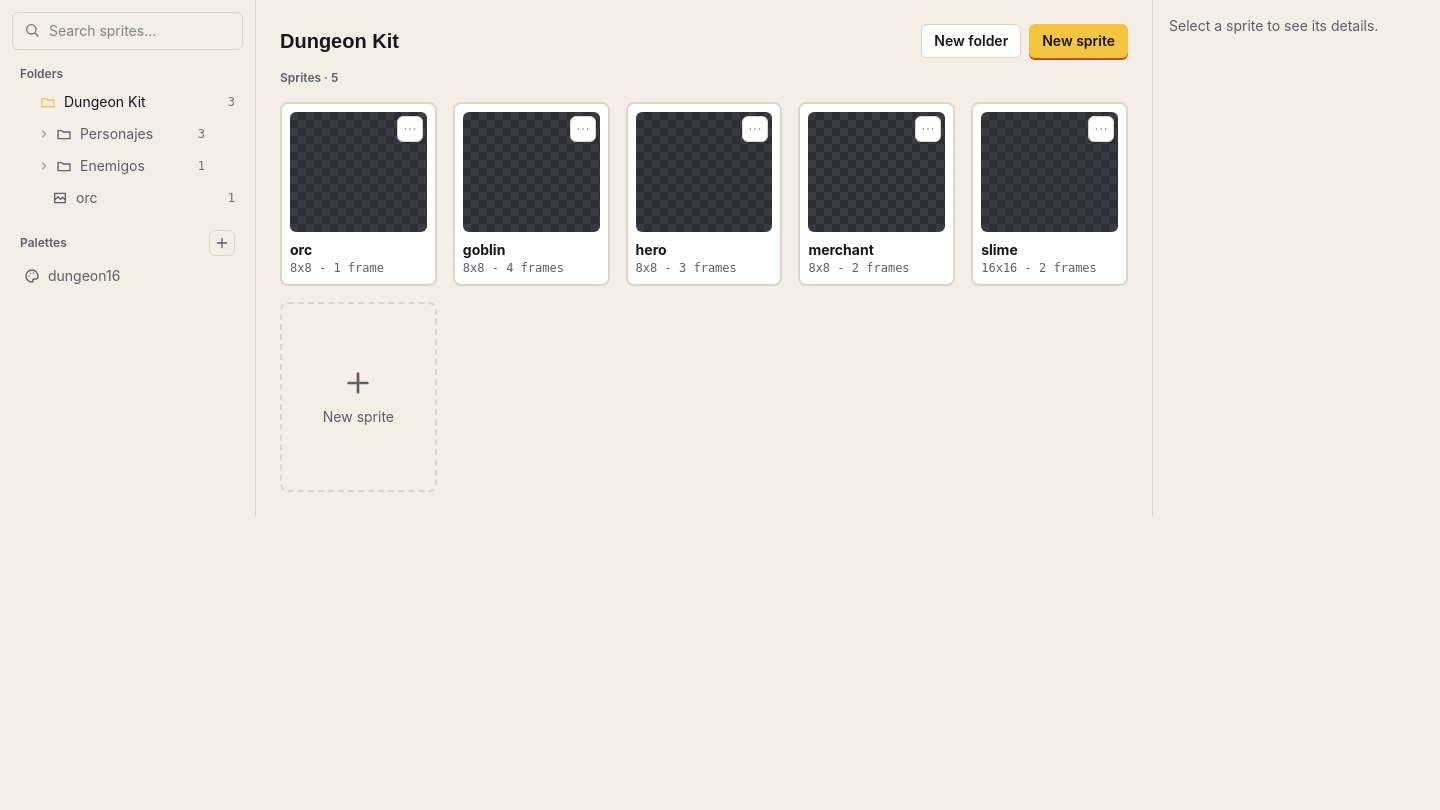
Scenario: New sprite dialog › shows the name error and disables the button
Click the 1st button "New sprite" at (1079, 41), box [1029, 24, 1128, 58]
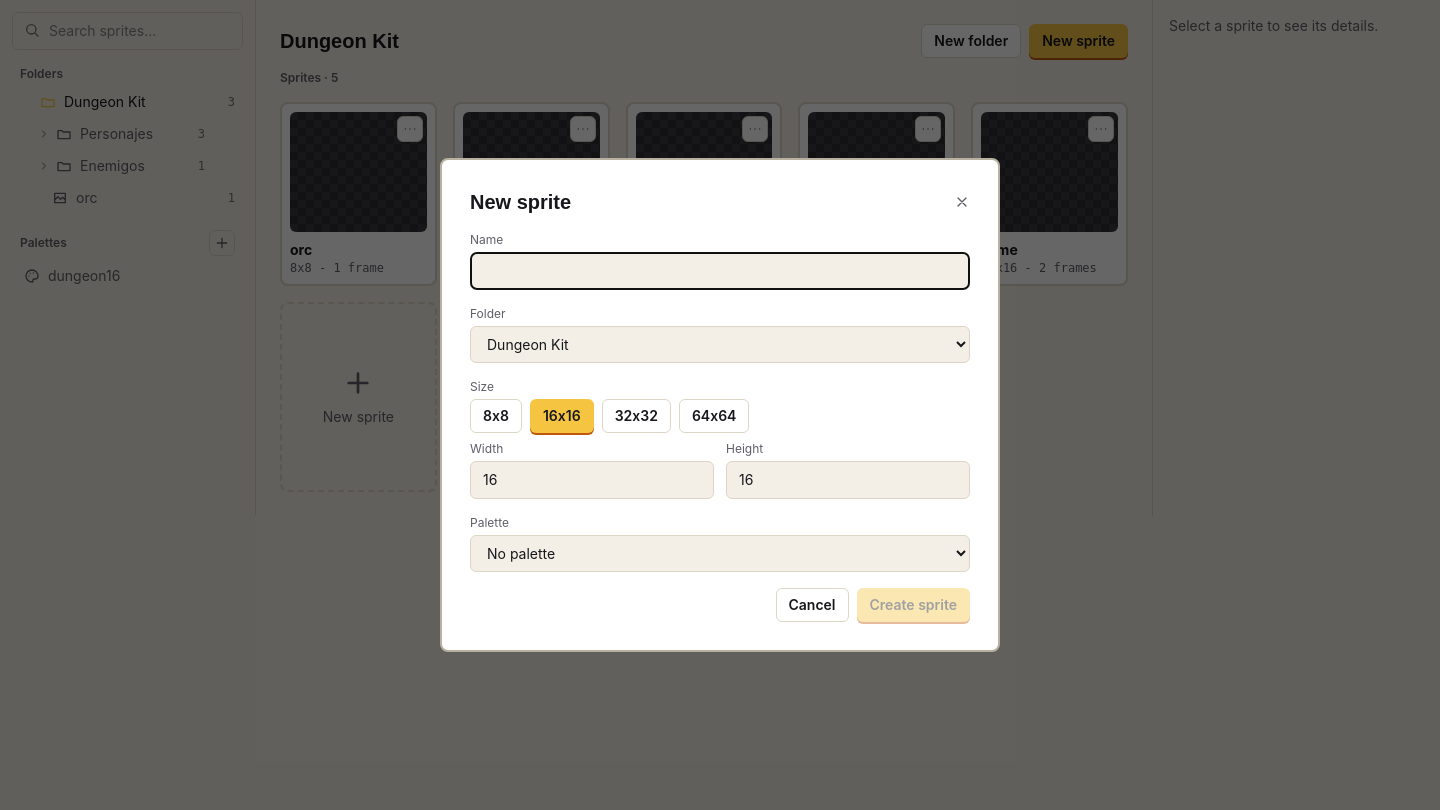
Check: the text "Type a name" is not shown
Type "ORC" into the field labelled "Name" at (720, 271), box [470, 252, 970, 290]
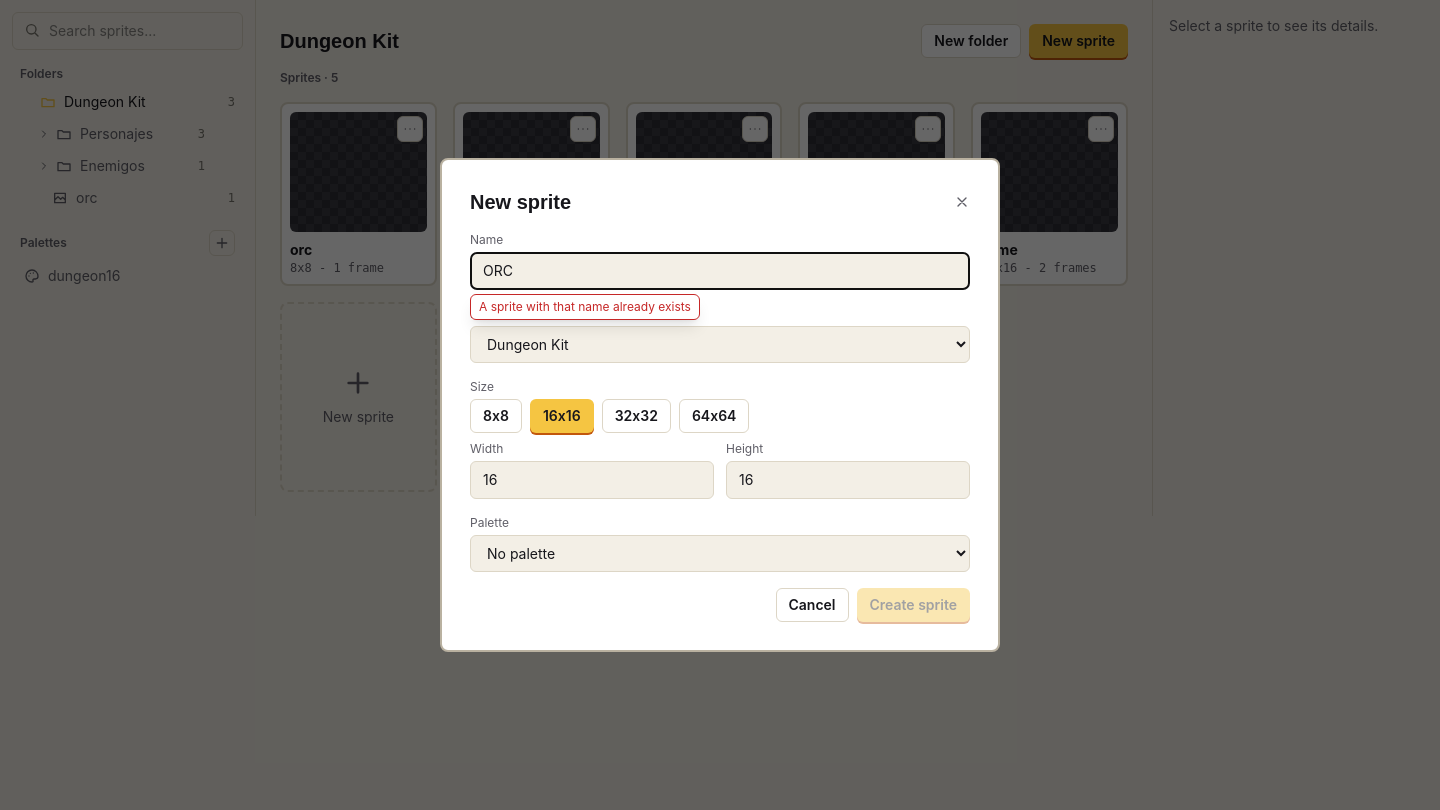
Check: the text "A sprite with that name already exists" is shown, box [470, 294, 700, 320]
Clear the field labelled "Name" at (720, 271), box [470, 252, 970, 290]
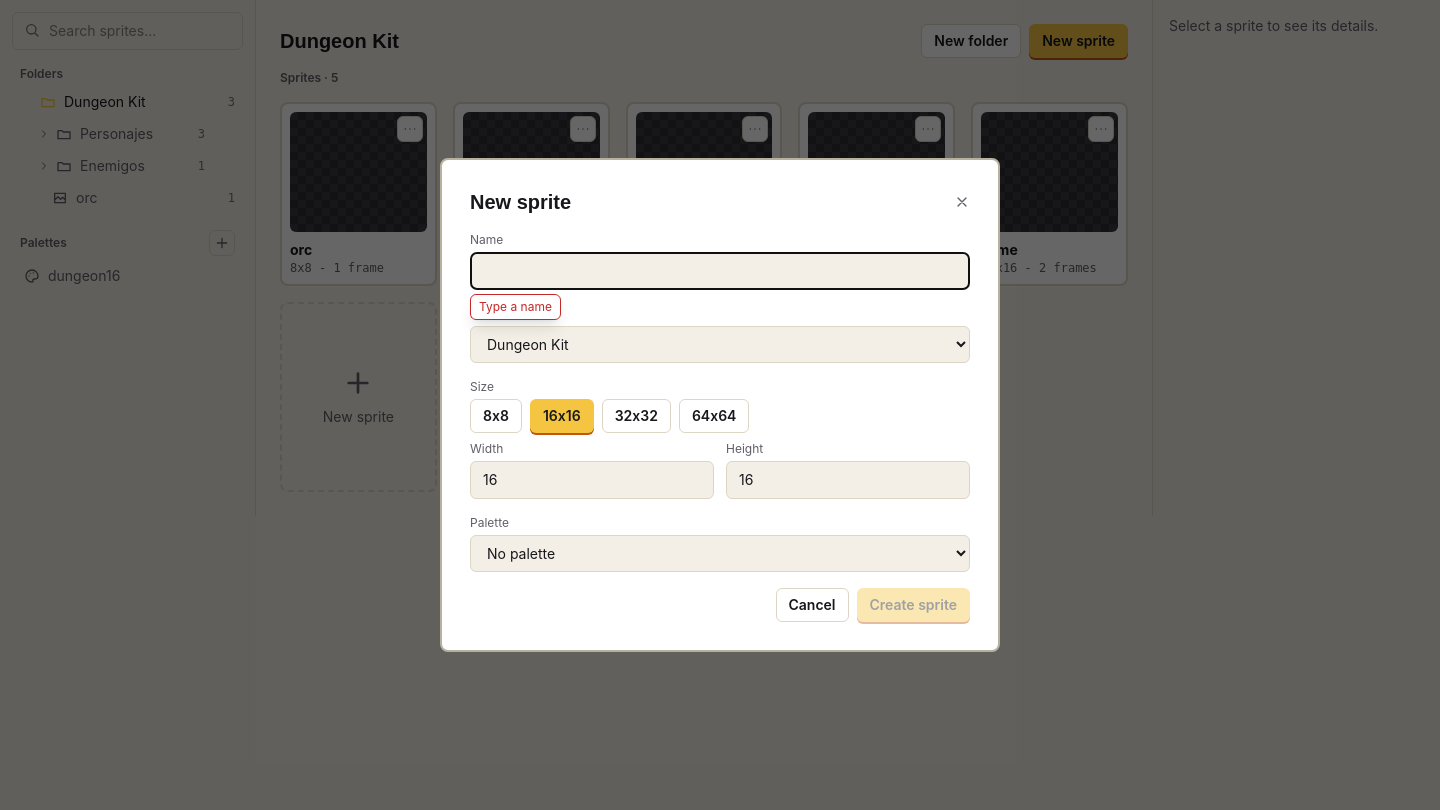
Check: the text "Type a name" is shown, box [470, 294, 561, 320]
